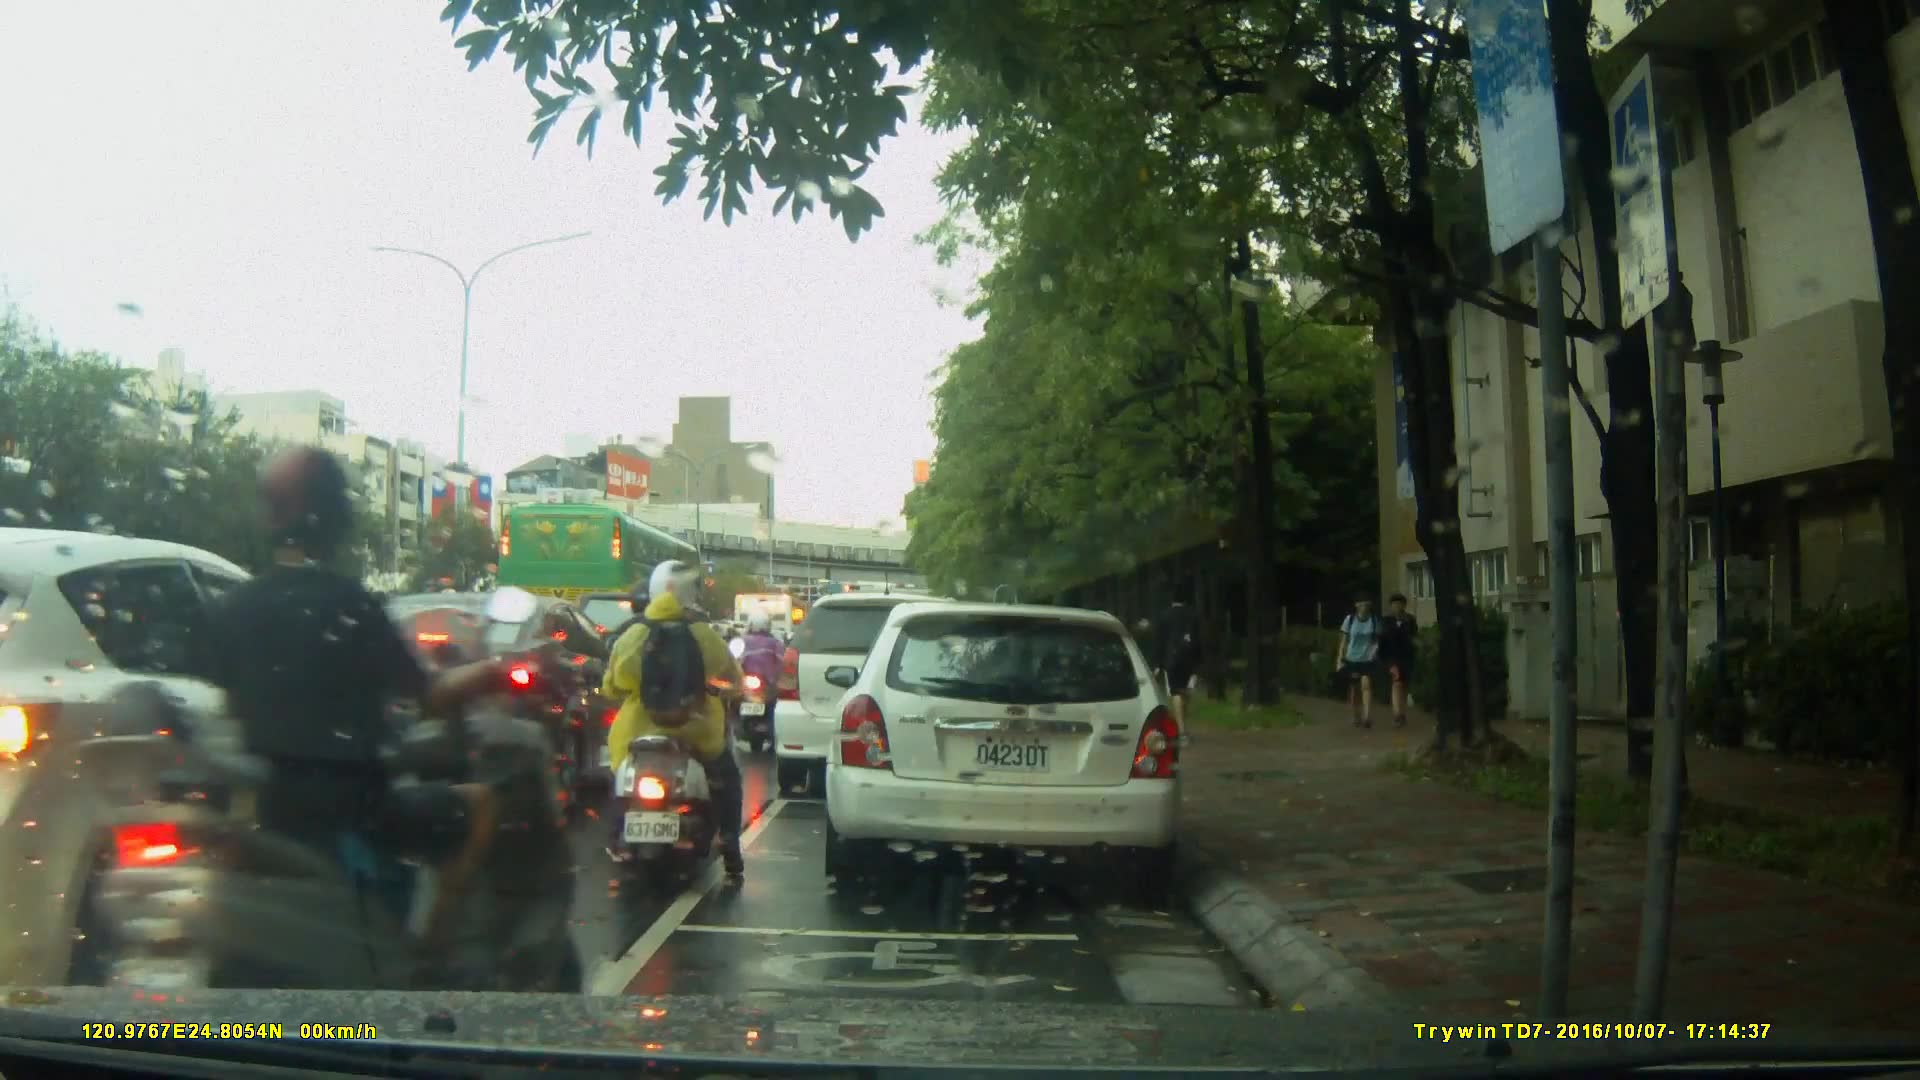pedestrian: (1151, 586, 1207, 750), (1325, 586, 1380, 737), (1377, 584, 1419, 733)
rider: (71, 437, 562, 1080), (606, 559, 755, 876), (735, 610, 795, 754)
vehicle: (1, 525, 435, 986), (831, 592, 1196, 897), (315, 593, 658, 802), (770, 592, 999, 800), (495, 502, 707, 640)
